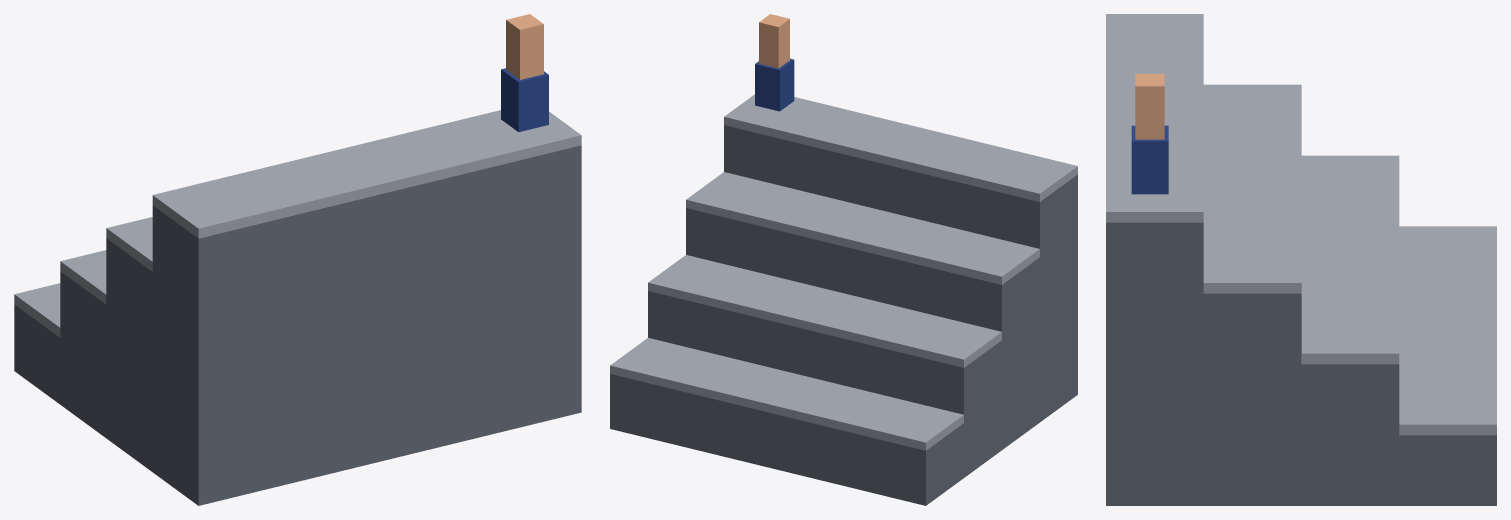
Rendered from bleachers.glb.
The picture shows the model from 3 angles, left to right: view 1: azimuth 30°, elevation 25°; view 2: azimuth 150°, elevation 25°; view 3: azimuth 270°, elevation 25°; orthographic projection. The views are drawn at different scales.
Visible parts, largest first — view 1: bleachers; view 2: bleachers; view 3: bleachers.
Boxes of the visible parts, x1,y1,x2,y2 form: bleachers: [14, 14, 581, 505]; bleachers: [610, 14, 1077, 505]; bleachers: [1106, 14, 1496, 505].
Bounding box in the file's own units: 1.2 × 1.15 × 1.
1 material, 1 textured.
